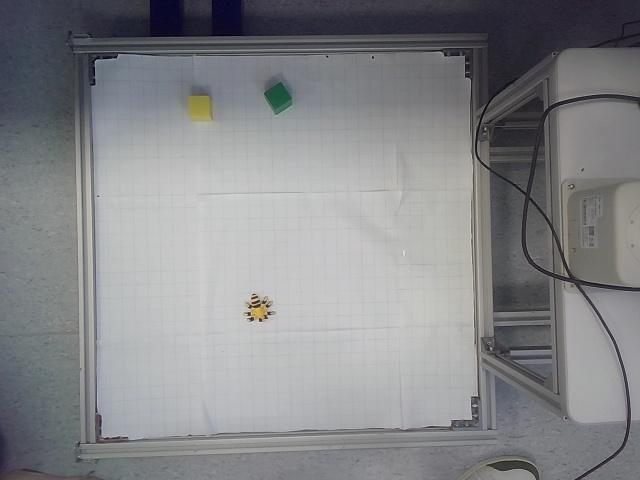frelon: (243, 293, 276, 322)
